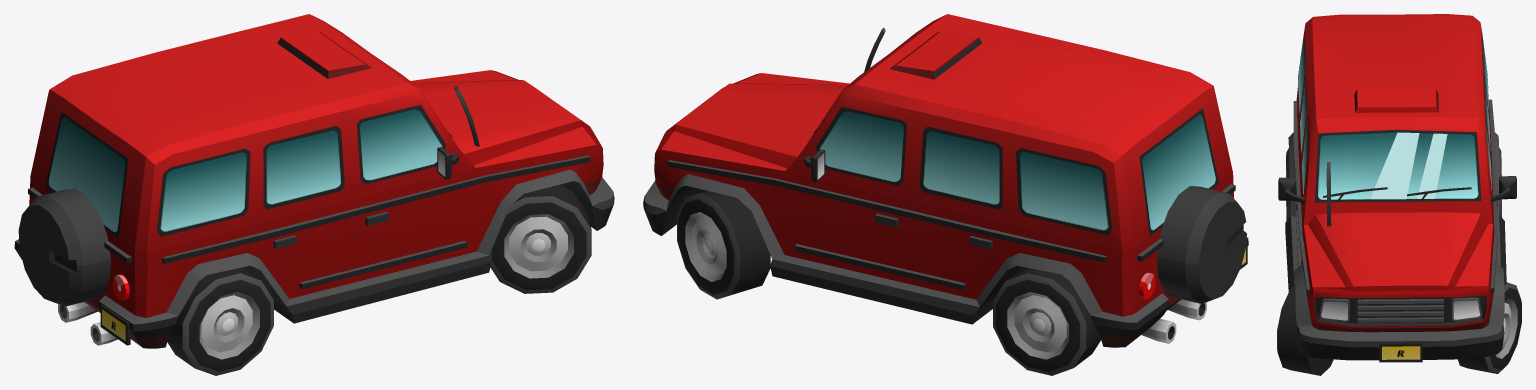
Rendered from Car_015.glb.
3 renders of one model, left to right at view 1: azimuth 30°, elevation 25°; view 2: azimuth 150°, elevation 25°; view 3: azimuth 270°, elevation 25°, orthographic. The views are drawn at different scales.
Parts seen in each view (by area): view 1: Car_015, wheel_0_Car_015_Wheel_1R, wheel_2_Car_015_Wheel_3R; view 2: Car_015, wheel_3_Car_015_Wheel_4L, wheel_1_Car_015_Wheel_2L; view 3: Car_015, wheel_0_Car_015_Wheel_1R, wheel_1_Car_015_Wheel_2L.
Part boxes in pixels (bbox=[...]): Car_015: bbox=[14, 14, 614, 348]; wheel_0_Car_015_Wheel_1R: bbox=[489, 185, 591, 293]; wheel_2_Car_015_Wheel_3R: bbox=[167, 267, 273, 375]; Car_015: bbox=[643, 14, 1248, 347]; wheel_3_Car_015_Wheel_4L: bbox=[993, 267, 1101, 375]; wheel_1_Car_015_Wheel_2L: bbox=[677, 190, 770, 299]; Car_015: bbox=[1278, 14, 1516, 362]; wheel_0_Car_015_Wheel_1R: bbox=[1277, 284, 1333, 375]; wheel_1_Car_015_Wheel_2L: bbox=[1457, 282, 1521, 373].
Bounding box in the file's own units: 5.34 × 2.29 × 2.49.
1 material, 1 textured.
